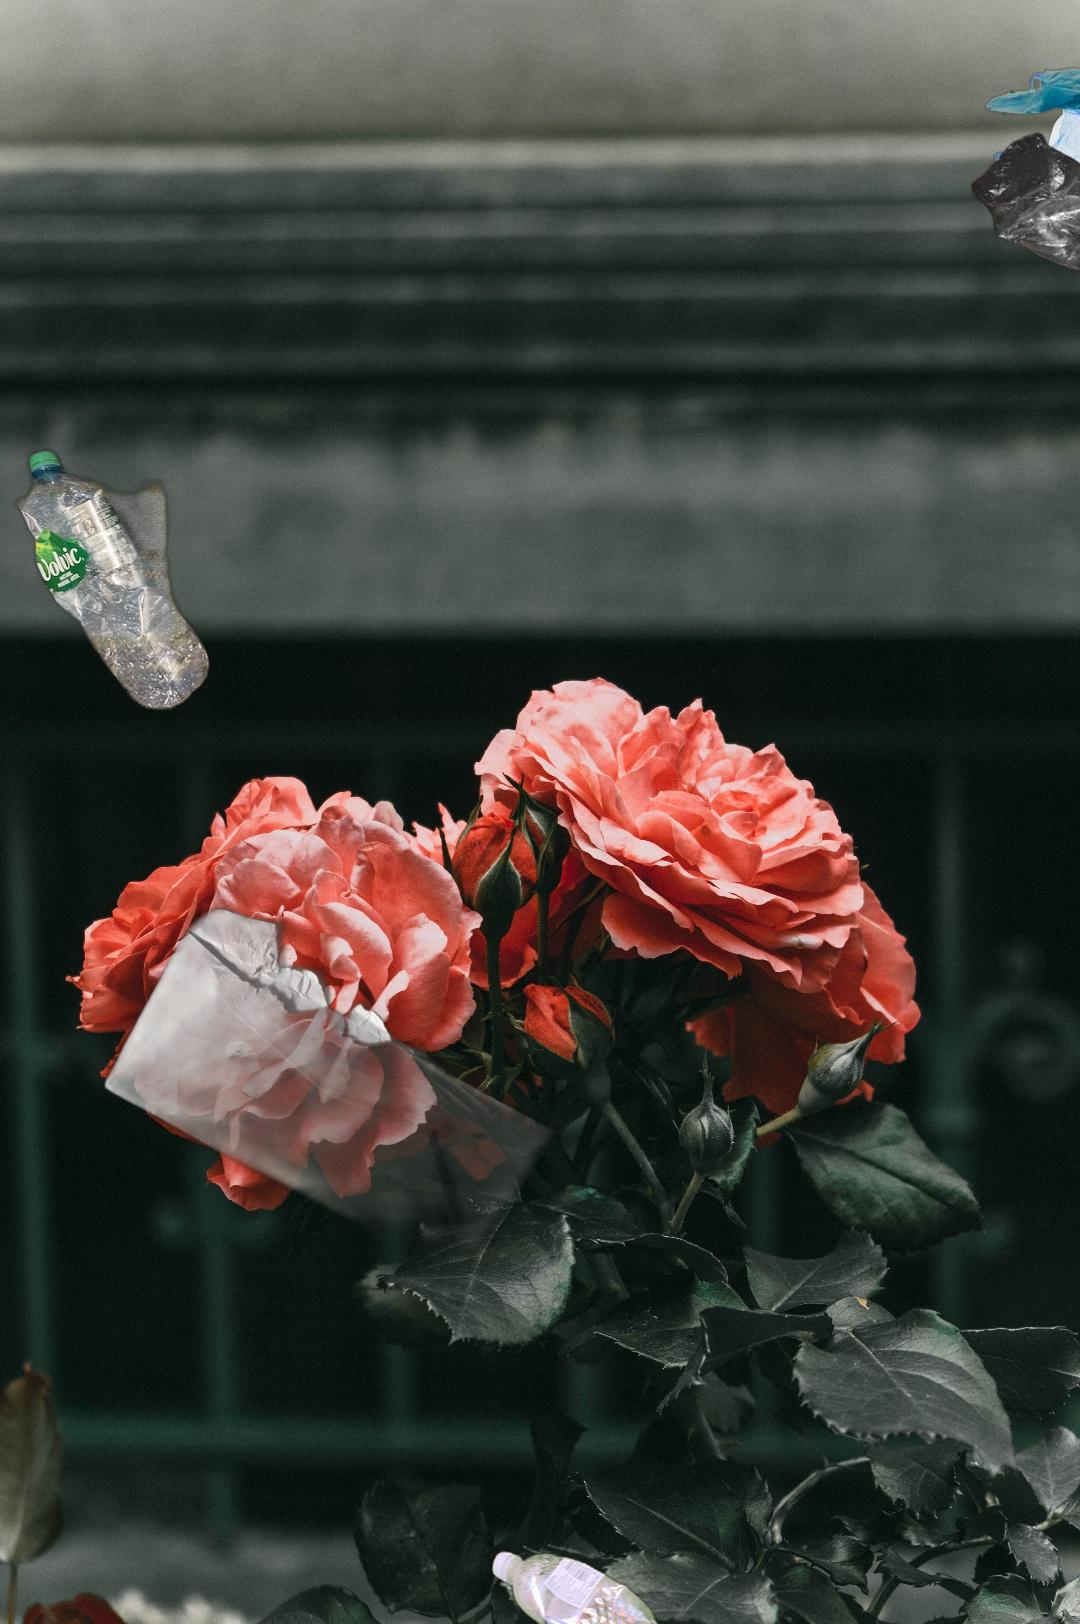paper: (64, 902, 563, 1251)
plastic-bag: (968, 64, 1080, 280)
plastic-bottles: (6, 445, 433, 716), (487, 1544, 665, 1624)
